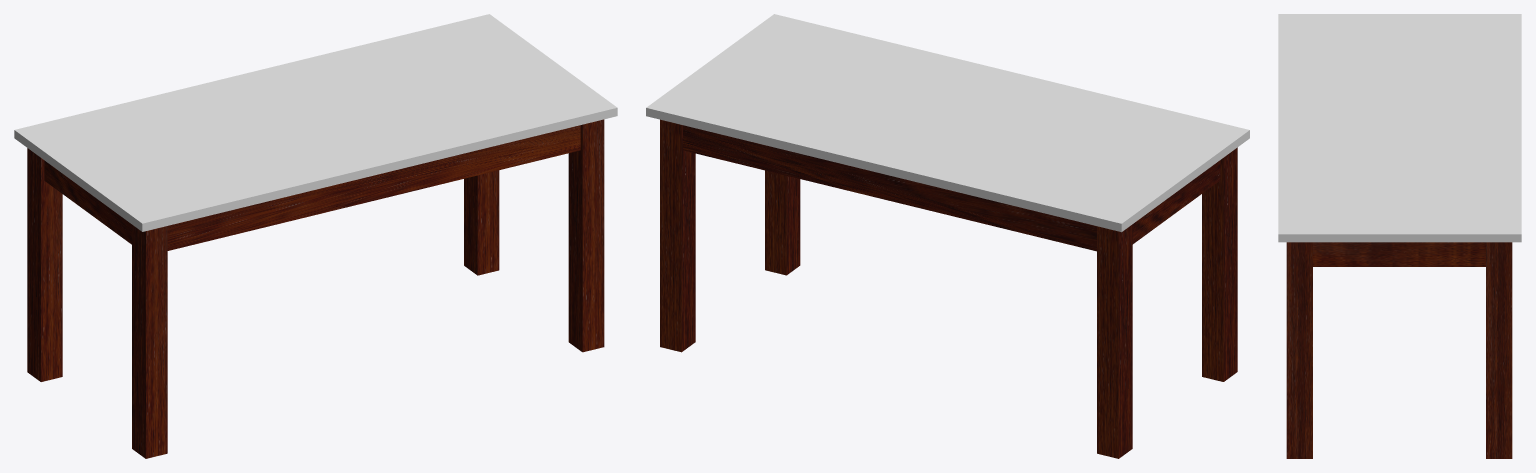
Rendered from lassaronBord.fbx.
The picture shows the model from 3 angles, left to right: view 1: azimuth 30°, elevation 25°; view 2: azimuth 150°, elevation 25°; view 3: azimuth 270°, elevation 25°; orthographic projection. The views are drawn at different scales.
Parts seen in each view (by area): view 1: Top, Legs, Understell; view 2: Top, Legs, Understell; view 3: Top, Legs, Understell.
Part boxes in pixels (x1,y1,x2,y2): Top: (14, 14, 617, 231); Legs: (27, 119, 604, 458); Understell: (44, 125, 580, 250); Top: (646, 14, 1249, 232); Legs: (660, 119, 1237, 458); Understell: (683, 125, 1220, 251); Top: (1278, 14, 1521, 242); Legs: (1286, 242, 1512, 458); Understell: (1313, 242, 1485, 266).
Size of the model in its own units: 428 by 207 by 200.
